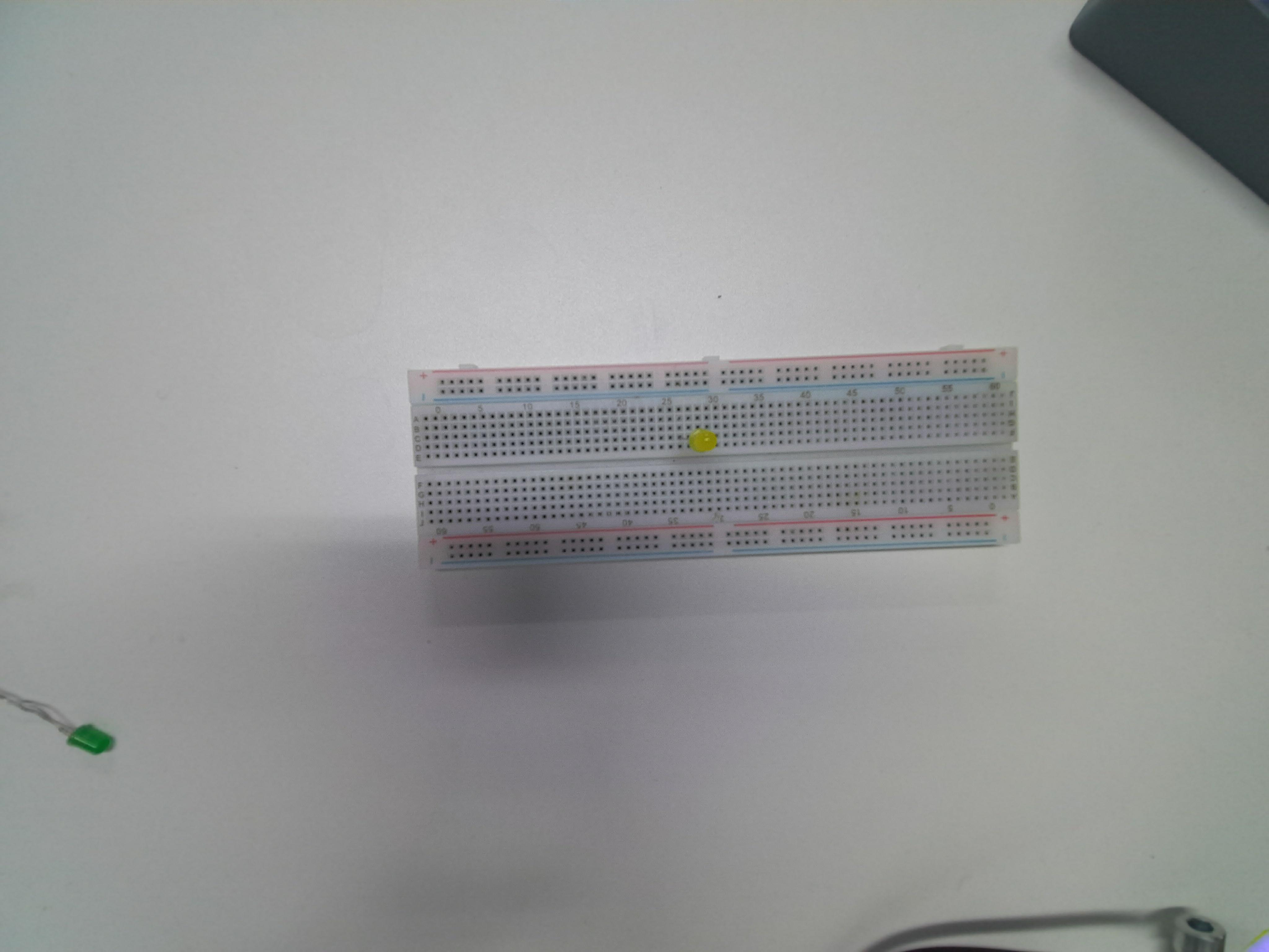base: (408, 347, 1023, 574)
green-led: (68, 716, 118, 770)
yellow-led: (690, 428, 718, 452)
